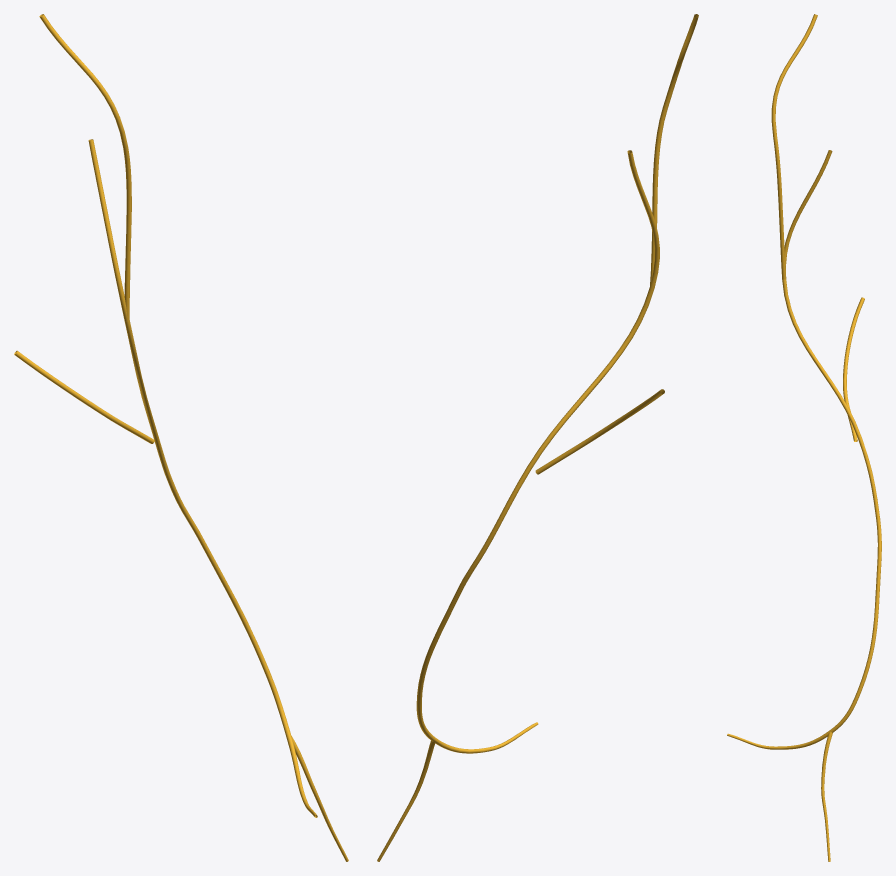
Rendered from nervoso-nerve-to-quadratus-femoris-muscle-l.glb.
3 views of the same model, side by side, from view 1: azimuth 30°, elevation 25°; view 2: azimuth 150°, elevation 25°; view 3: azimuth 270°, elevation 25° (orthographic). The views are drawn at different scales.
Visible parts, largest first — view 1: Nerve to quadratus femoris muscle.l; view 2: Nerve to quadratus femoris muscle.l; view 3: Nerve to quadratus femoris muscle.l.
Part boxes in pixels (x1,y1,x2,y2): Nerve to quadratus femoris muscle.l: (14, 14, 348, 861); Nerve to quadratus femoris muscle.l: (377, 14, 698, 861); Nerve to quadratus femoris muscle.l: (727, 14, 881, 861).
Bounding box in the file's own units: 0.0702 × 0.1965 × 0.0378.
